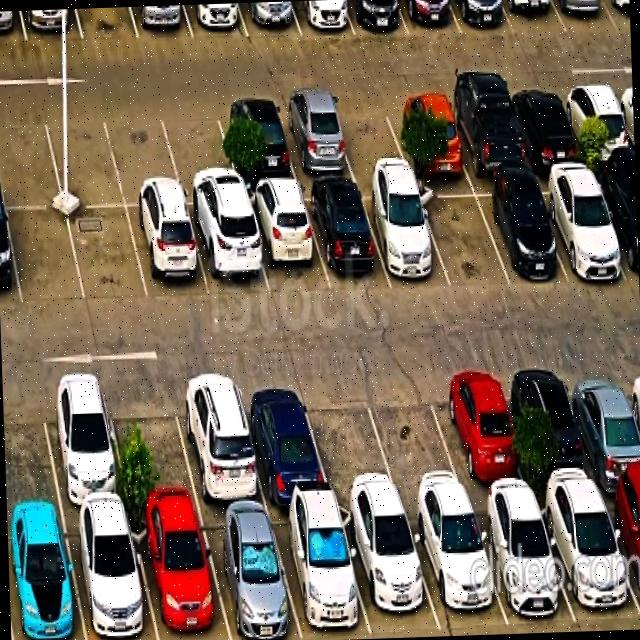empty: (362, 368, 468, 502), (300, 373, 400, 501), (104, 379, 200, 511), (415, 182, 509, 287), (158, 101, 242, 205), (42, 107, 125, 207), (104, 106, 184, 206), (2, 380, 61, 514), (67, 207, 148, 303), (6, 209, 85, 305), (328, 96, 409, 176), (0, 107, 63, 207), (76, 6, 139, 39)
occupied: (535, 491, 640, 630), (268, 505, 371, 640), (404, 500, 508, 630), (198, 510, 302, 640), (470, 498, 575, 626), (338, 505, 441, 634), (431, 365, 530, 498), (129, 510, 230, 640), (171, 372, 266, 508), (507, 362, 600, 495), (236, 376, 331, 504), (38, 379, 129, 511), (64, 512, 157, 640), (532, 170, 628, 279), (471, 179, 566, 284), (563, 361, 640, 490), (7, 514, 84, 640), (358, 183, 450, 287), (243, 186, 329, 296), (301, 183, 390, 289), (126, 206, 210, 300), (186, 205, 269, 296), (443, 89, 529, 174), (215, 99, 298, 184), (275, 97, 355, 180), (386, 93, 469, 172), (505, 85, 584, 166), (558, 83, 635, 161), (590, 170, 639, 282), (600, 488, 640, 614), (500, 0, 566, 36), (183, 3, 248, 38), (343, 0, 408, 35), (398, 0, 461, 36), (450, 0, 514, 34), (290, 0, 354, 34), (130, 5, 193, 39), (239, 1, 300, 36), (0, 205, 21, 306), (552, 0, 617, 32), (20, 8, 82, 41), (0, 10, 26, 41), (604, 0, 630, 30)
